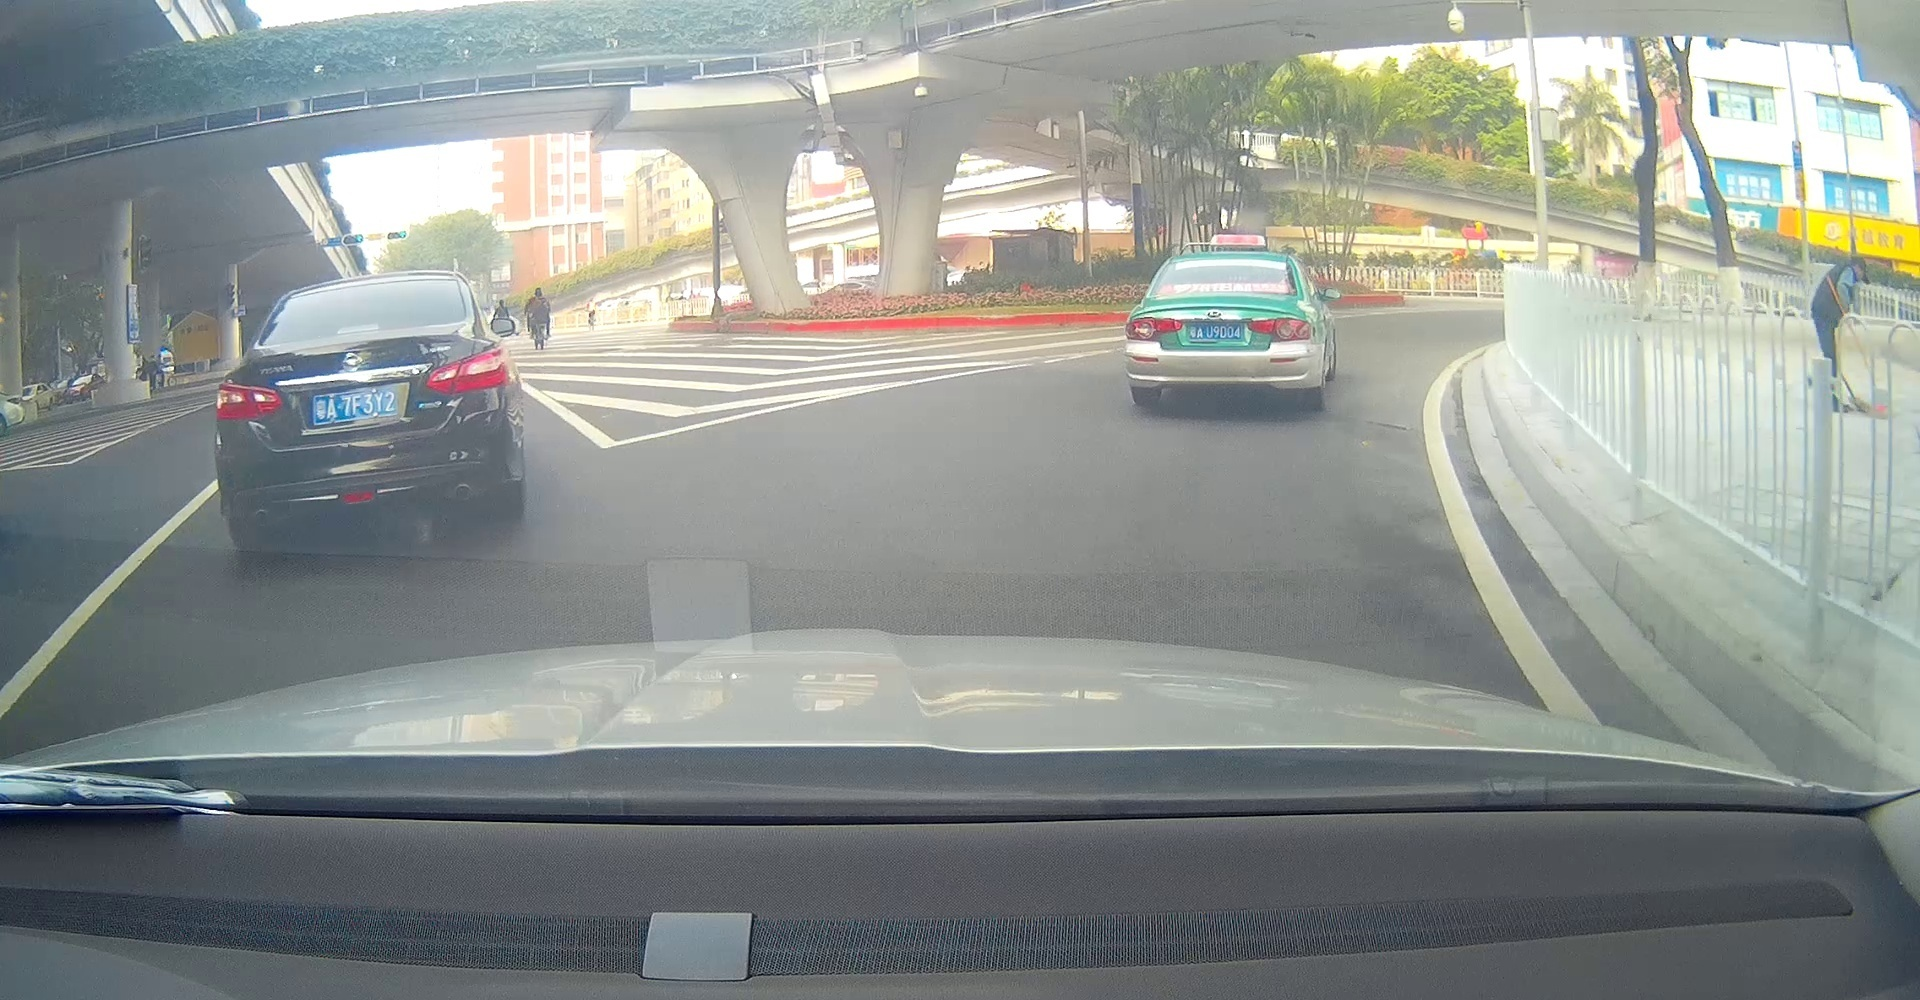L_light: (216, 382, 282, 421), (1125, 319, 1182, 341)
R_light: (425, 345, 510, 393), (1248, 317, 1310, 340)
T_light: (337, 324, 380, 334), (1222, 258, 1243, 261)
day-no: (215, 272, 521, 546), (1125, 251, 1316, 409)
